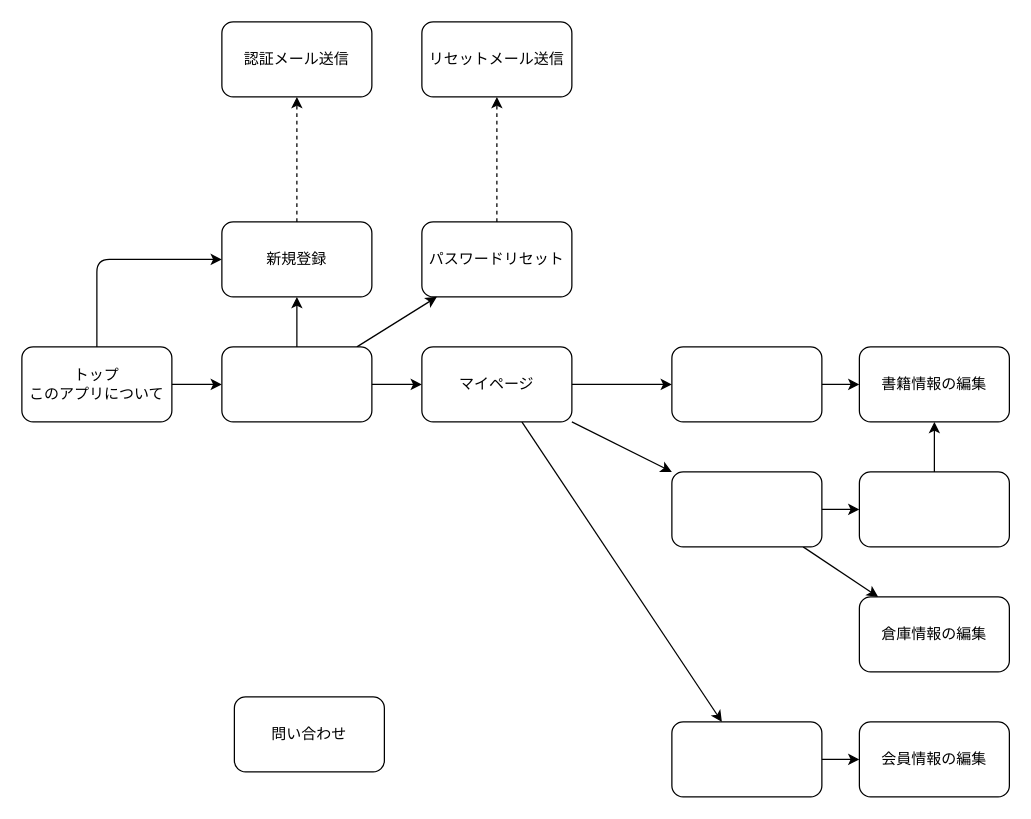
Image size: 1031x819. Some labels were removed from this diagram. Each missing label, with the box of its shape:
ログイン: (221, 346, 372, 422)
会員情報: (671, 721, 822, 797)
倉庫一覧: (671, 471, 822, 547)
倉庫内の書籍一覧: (858, 471, 1009, 547)
書籍一覧: (671, 346, 822, 422)
